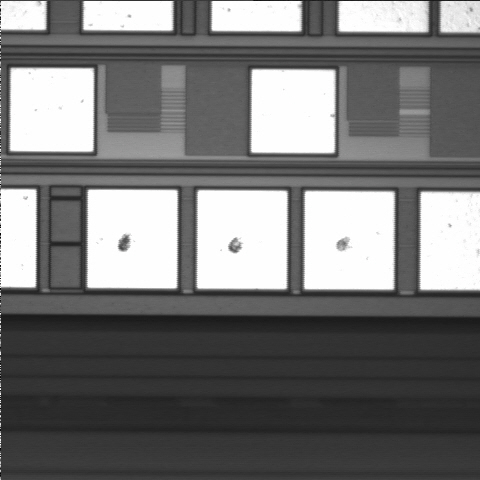pad: (197, 190, 287, 289), (304, 191, 394, 290), (88, 190, 177, 288), (10, 68, 94, 152), (251, 70, 335, 153)
